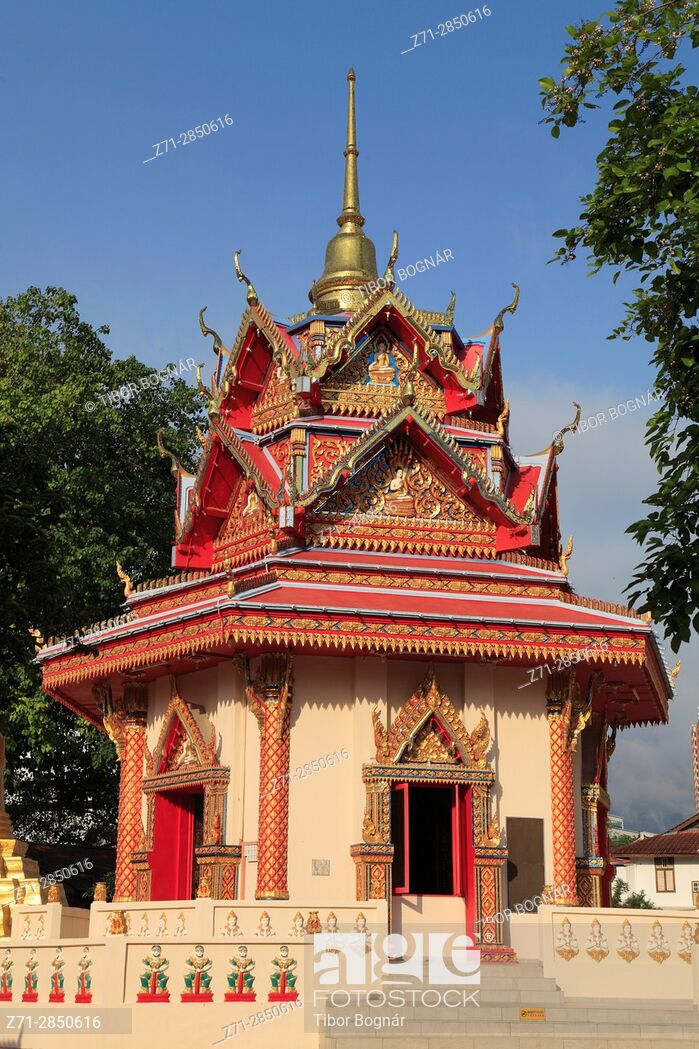Buddhist Temple: (115, 71, 619, 944)
